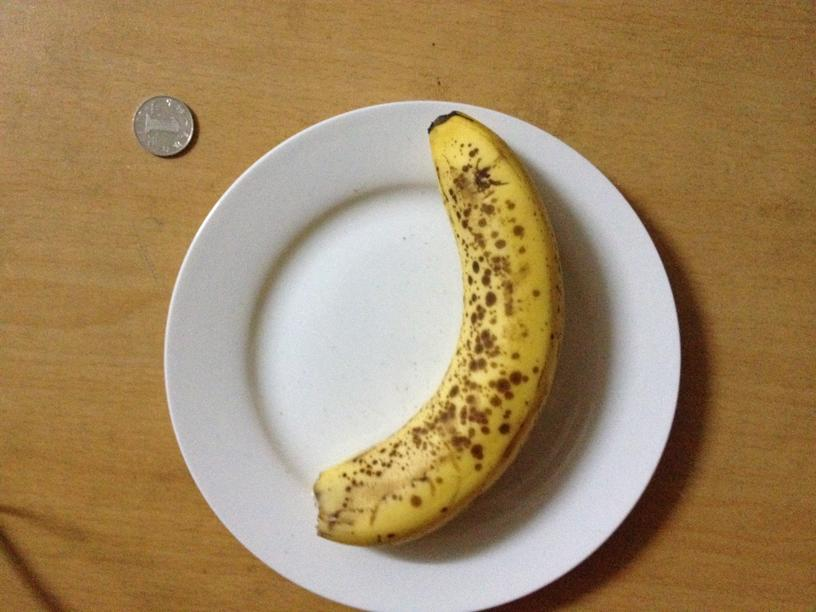banana: (298, 110, 565, 542)
coin: (132, 93, 197, 157)
